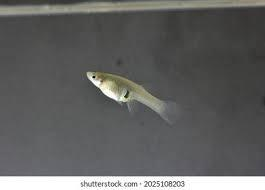Mosquito Fish: (86, 70, 182, 126)
